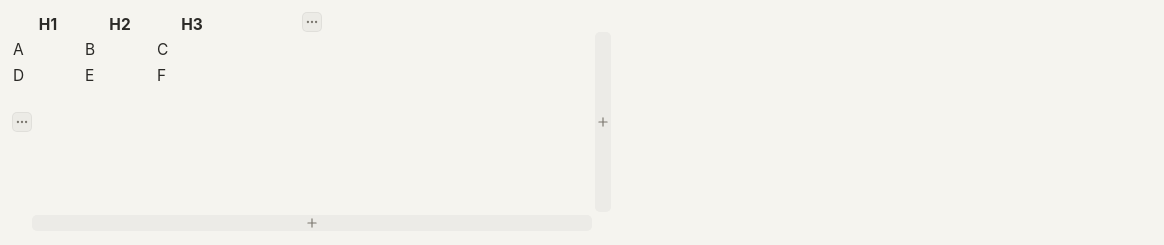
Test: TableControlsOverlay › actions: 在下方插入行
Check: the button named "在表格右侧新增列" is shown, box [595, 32, 611, 212]
Click the button named "当前行操作" at (22,122), box [12, 112, 32, 132]
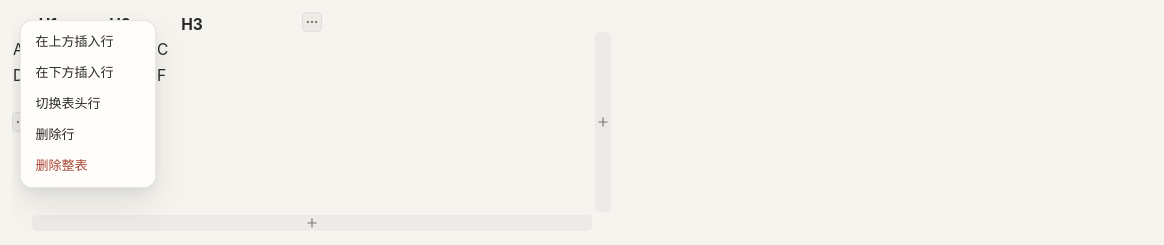
Check: the element with class "table-action-menu" is shown, box [20, 20, 156, 188]
Check: the button "在下方插入行" is shown
Click the button "在下方插入行" at (88,73), box [27, 58, 149, 89]
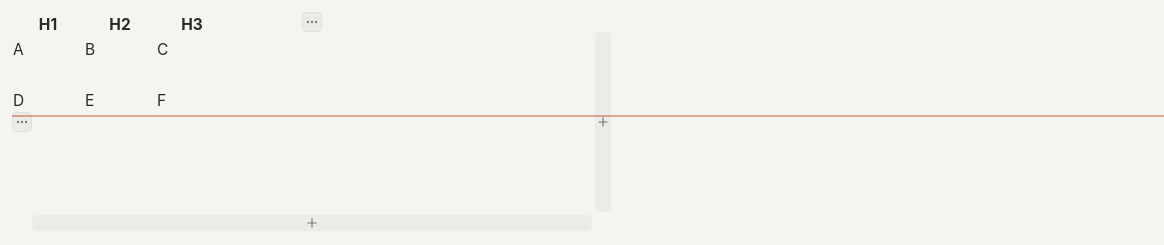
Check: the element with class "table-action-menu" is gone
